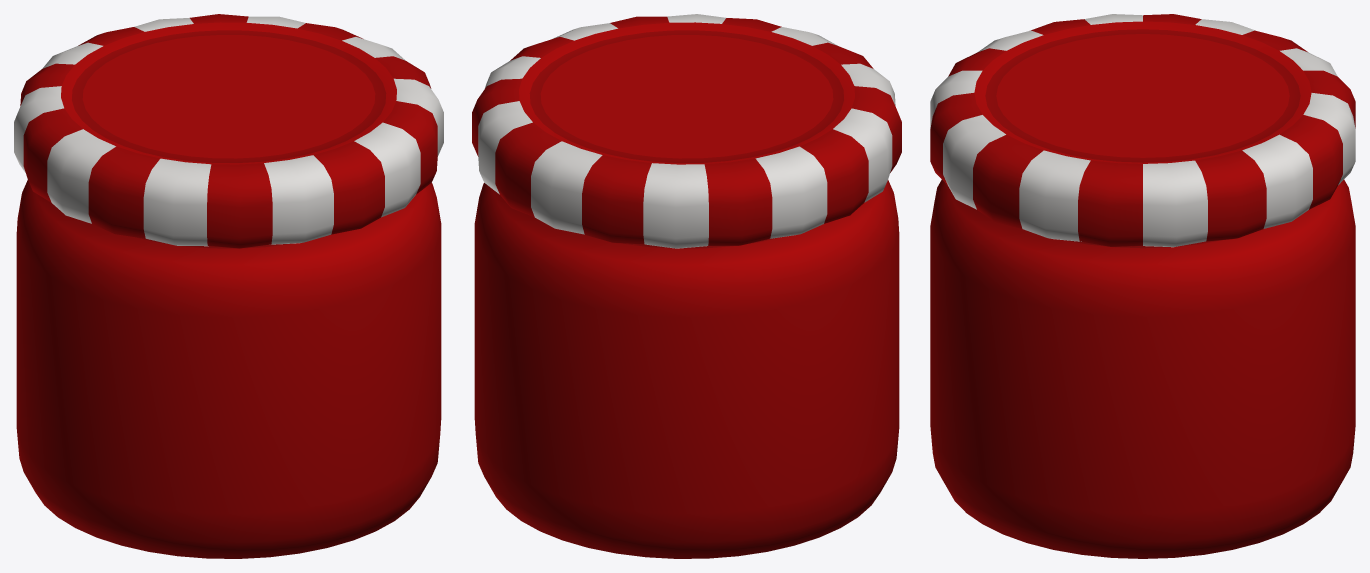
The model's file is kav1.glb.
The picture shows the model from 3 angles, left to right: view 1: azimuth 30°, elevation 25°; view 2: azimuth 150°, elevation 25°; view 3: azimuth 270°, elevation 25°; orthographic projection.
Parts seen in each view (by area): view 1: kav1; view 2: kav1; view 3: kav1.
Part boxes in pixels (<box>): kav1: <box>14,14,443,558</box>; kav1: <box>472,14,901,558</box>; kav1: <box>930,14,1355,558</box>.
Size of the model in its own units: 1.51 by 1.53 by 1.51.
